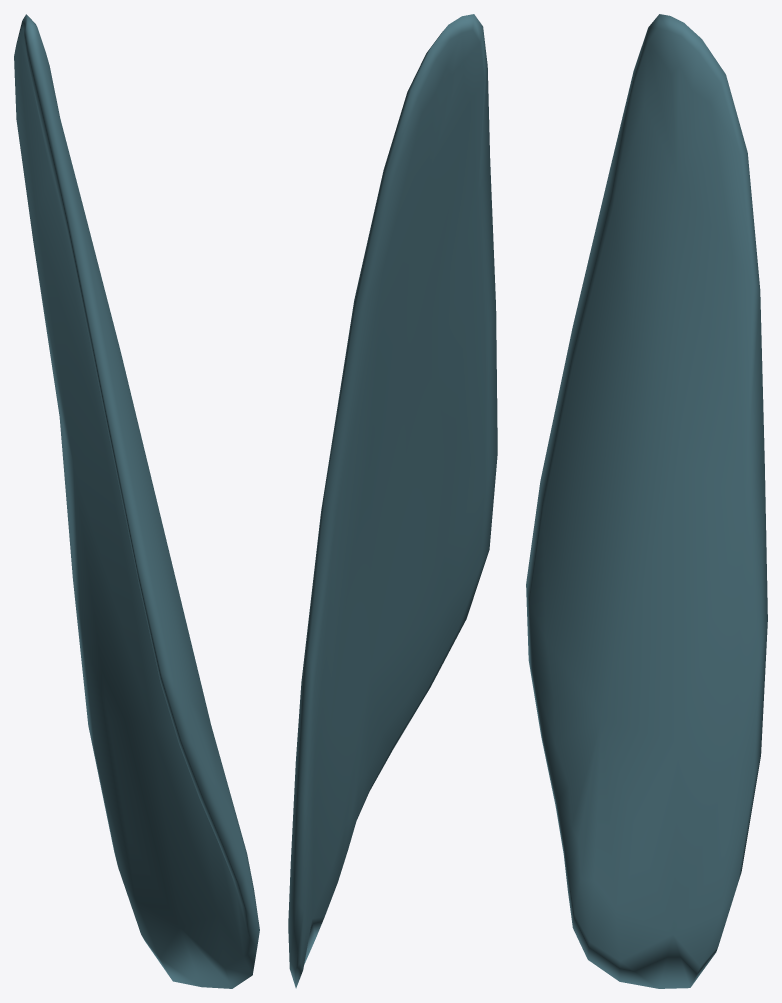
The model's file is Pronator_teres-Radial_insertion.l_Generated_Mesh_From_X3D.632.glb.
3 views of the same model, side by side, from view 1: azimuth 30°, elevation 25°; view 2: azimuth 150°, elevation 25°; view 3: azimuth 270°, elevation 25° (orthographic). The views are drawn at different scales.
Visible parts, largest first — view 1: Pronator_teres-Radial_insertion.l_Generated_Mesh_From_X3D.63; view 2: Pronator_teres-Radial_insertion.l_Generated_Mesh_From_X3D.63; view 3: Pronator_teres-Radial_insertion.l_Generated_Mesh_From_X3D.63.
Part boxes in pixels (bbox=[...]): Pronator_teres-Radial_insertion.l_Generated_Mesh_From_X3D.63: bbox=[14, 14, 259, 988]; Pronator_teres-Radial_insertion.l_Generated_Mesh_From_X3D.63: bbox=[288, 14, 497, 988]; Pronator_teres-Radial_insertion.l_Generated_Mesh_From_X3D.63: bbox=[526, 14, 767, 988].
Bounding box in the file's own units: 0.00526 × 0.0266 × 0.00644.
